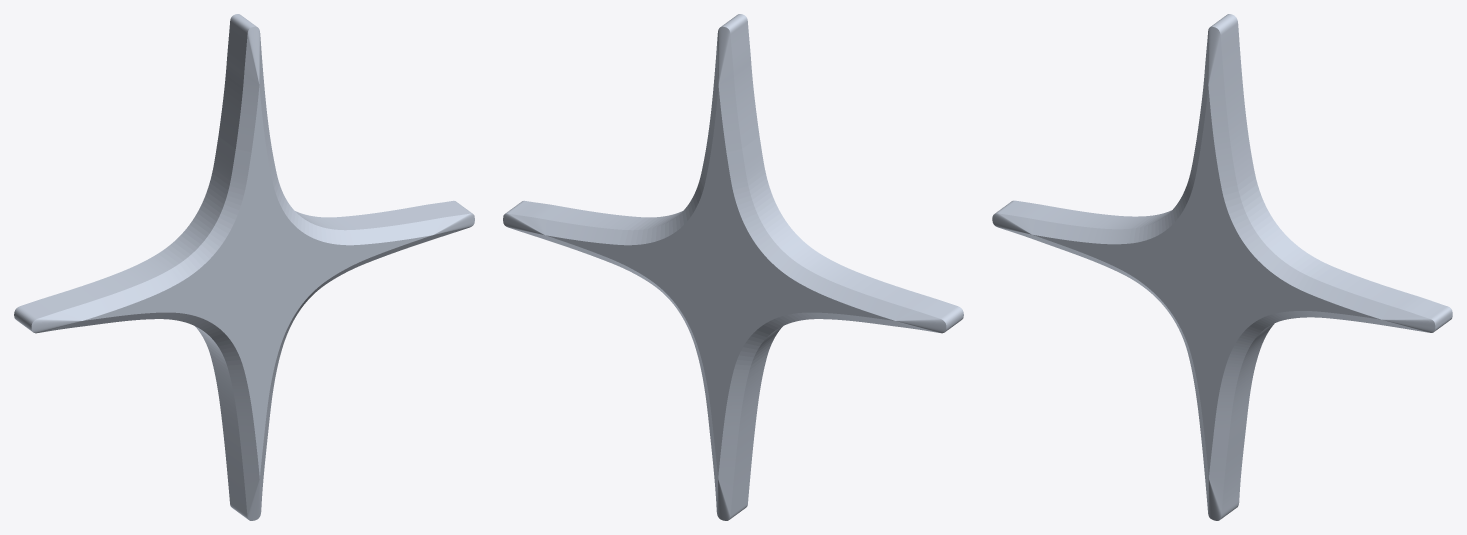
The model's file is star.glb.
3 renders of one model, left to right at view 1: azimuth 30°, elevation 25°; view 2: azimuth 150°, elevation 25°; view 3: azimuth 330°, elevation 25°, orthographic.
Parts seen in each view (by area): view 1: Shape 0; view 2: Shape 0; view 3: Shape 0.
Boxes of the visible parts, x1=… form: Shape 0: x1=14, y1=14, x2=474, y2=520; Shape 0: x1=503, y1=14, x2=963, y2=520; Shape 0: x1=992, y1=14, x2=1452, y2=520.
Size of the model in its own units: 2.65 by 2.82 by 0.3.
